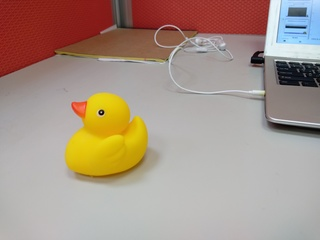duck: (58, 91, 158, 186)
